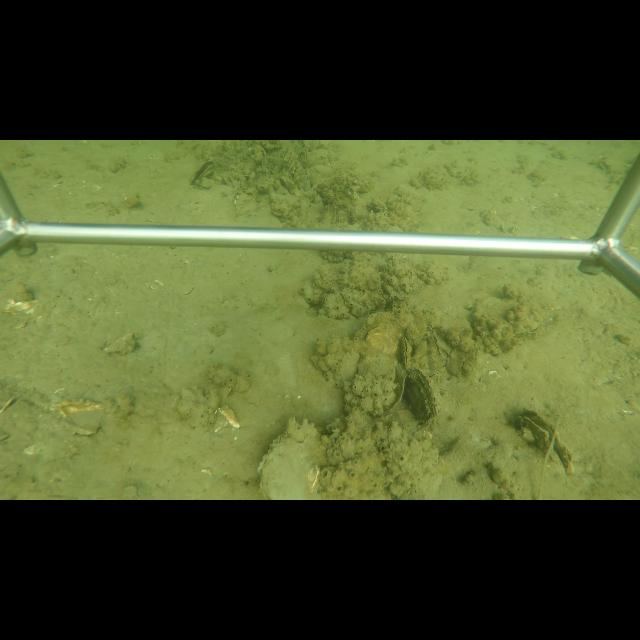Oyster-Closed: (256, 416, 326, 499), (353, 311, 407, 417), (474, 294, 546, 338), (402, 367, 442, 427), (398, 334, 414, 370), (415, 337, 429, 359), (278, 173, 294, 191), (296, 146, 308, 166), (304, 178, 312, 190)
Oyster-Open: (520, 407, 572, 469), (189, 160, 215, 188)
